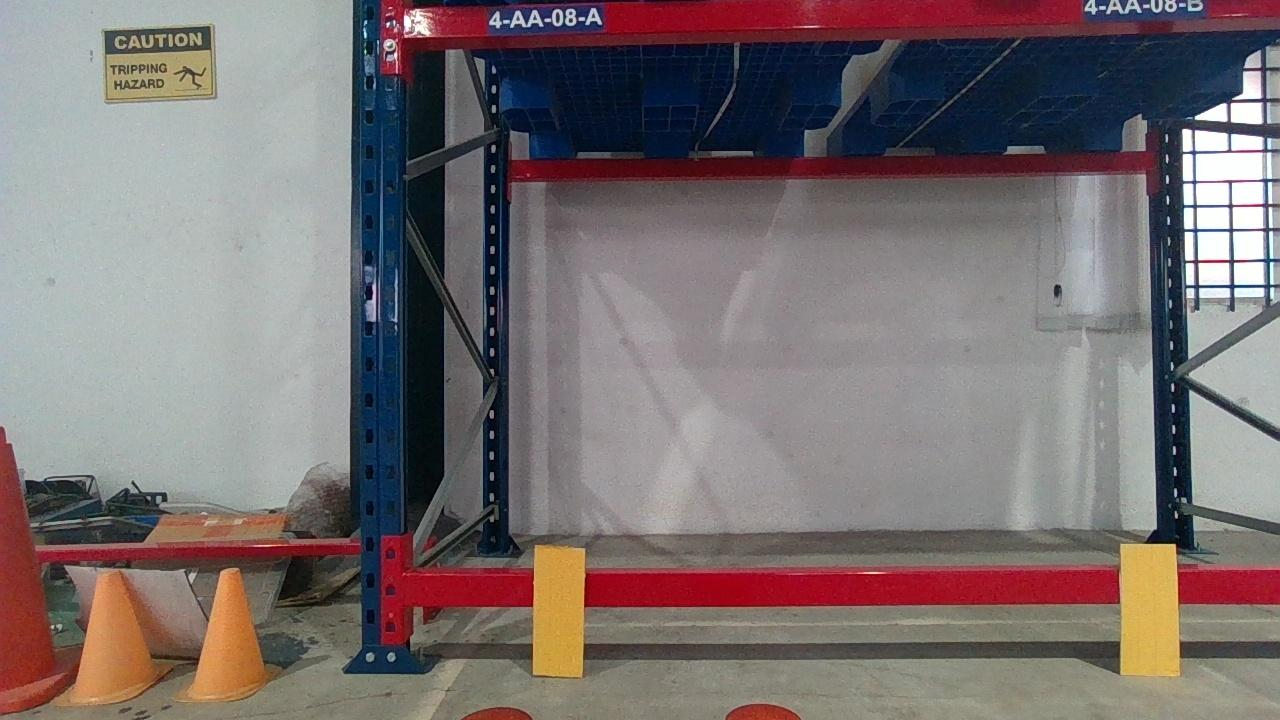h_rack: (408, 565, 1280, 608), (399, 0, 1279, 38)
orange_strip: (1119, 542, 1182, 677), (536, 548, 585, 678)
